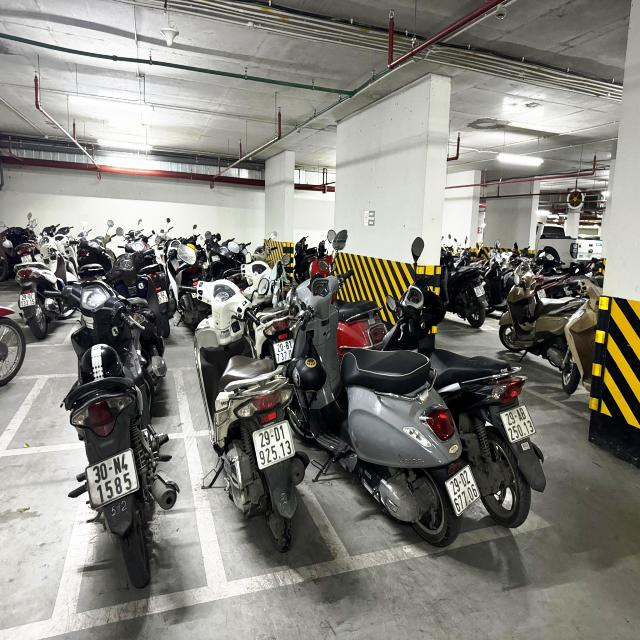license_plate: (82, 445, 144, 515), (250, 417, 299, 474), (443, 461, 485, 522), (498, 401, 540, 448), (19, 291, 38, 311), (473, 284, 487, 300)
